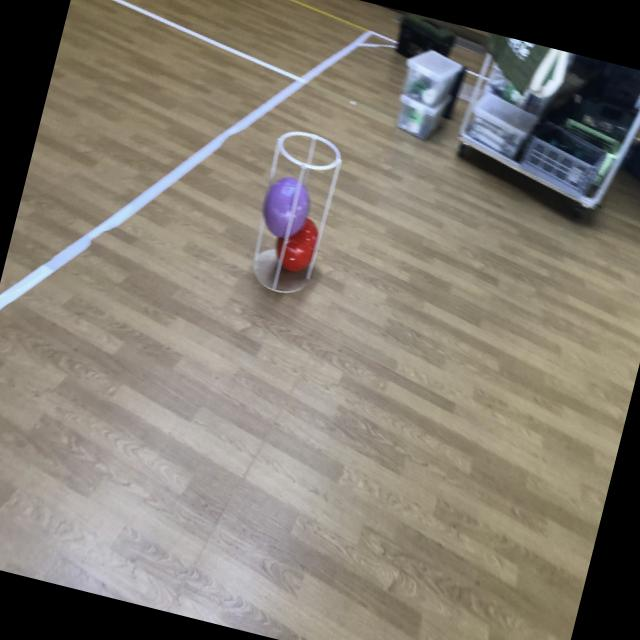purple_ball: (256, 172, 316, 240)
red_ball: (269, 214, 327, 276)
